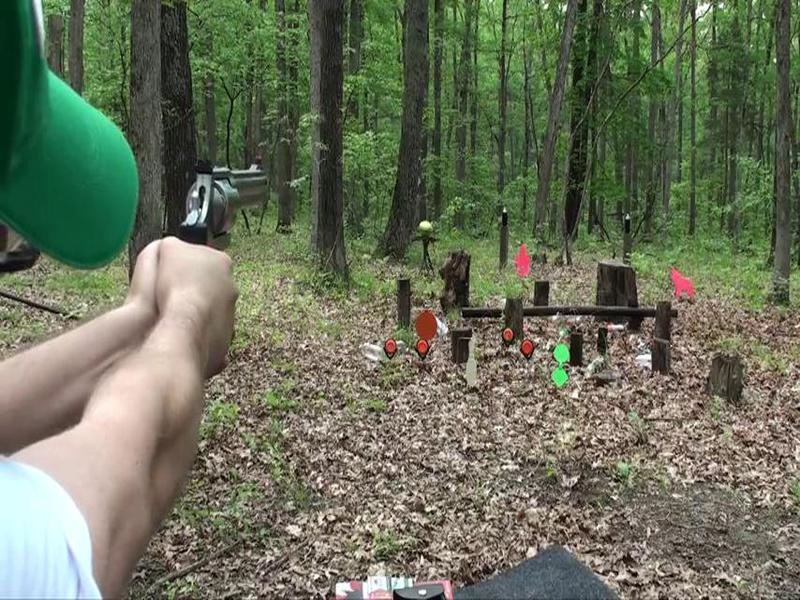Revolver: (151, 143, 273, 307)
